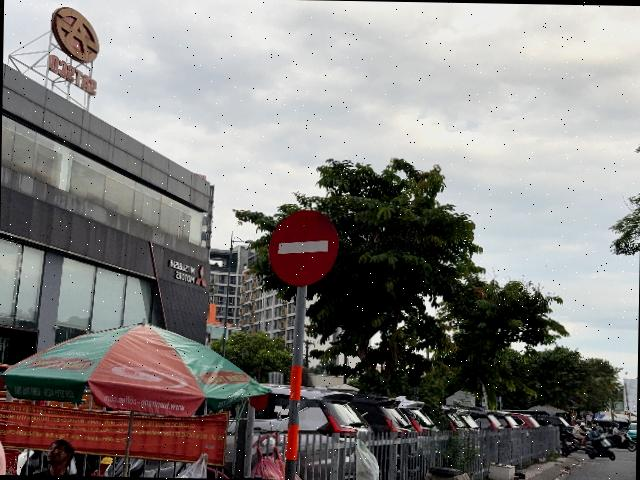cam-di-nguoc-chieu: (268, 210, 340, 287)
